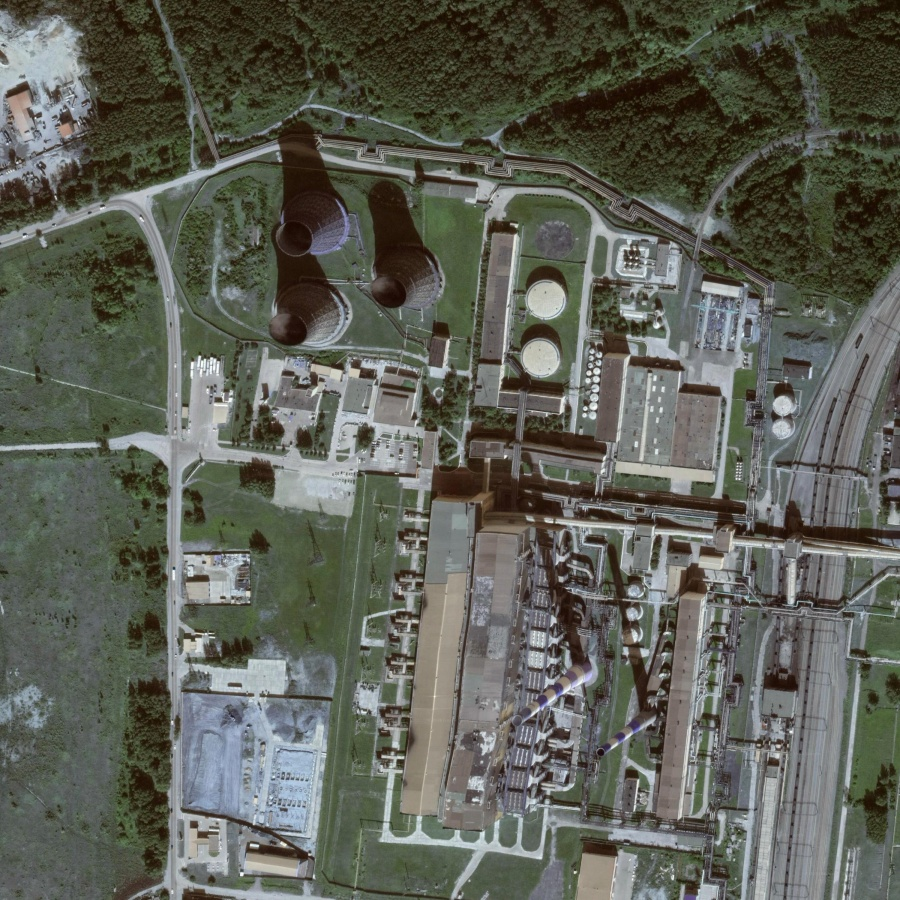PowerPlant: (256, 109, 588, 423), (482, 459, 735, 787)
